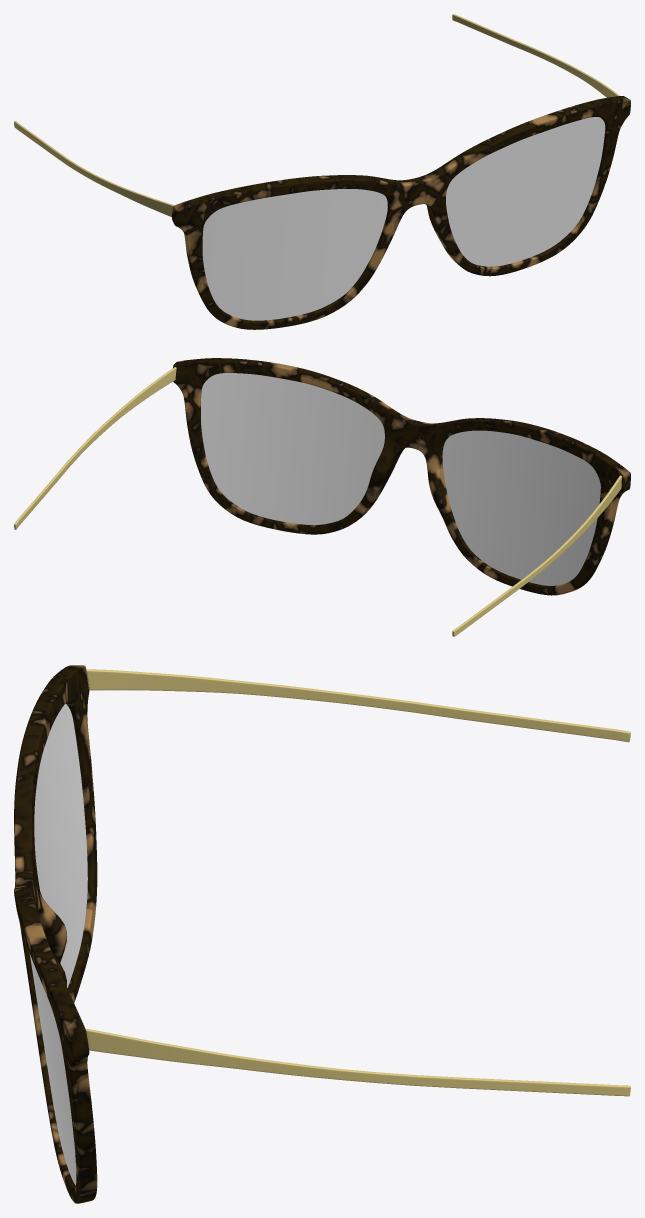
The model's file is RB7135LApp.glb.
3 renders of one model, top to bottom at view 1: azimuth 30°, elevation 25°; view 2: azimuth 150°, elevation 25°; view 3: azimuth 270°, elevation 25°, orthographic. The views are drawn at different scales.
Parts seen in each view (by area): view 1: Lentes, Frente, hastes; view 2: Lentes, Frente, hastes; view 3: Frente, hastes, Lentes.
Boxes of the visible parts, x1=… form: Lentes: x1=202, y1=117, x2=605, y2=320; Frente: x1=172, y1=96, x2=630, y2=329; hastes: x1=14, y1=14, x2=619, y2=217; Lentes: x1=201, y1=373, x2=600, y2=585; Frente: x1=173, y1=358, x2=630, y2=595; hastes: x1=14, y1=367, x2=621, y2=636; Frente: x1=14, y1=665, x2=97, y2=1203; hastes: x1=86, y1=669, x2=630, y2=1096; Lentes: x1=29, y1=703, x2=87, y2=1185.
Size of the model in its own units: 0.158 by 0.0496 by 0.1087.
Materials: 3 (3 with a texture image).
